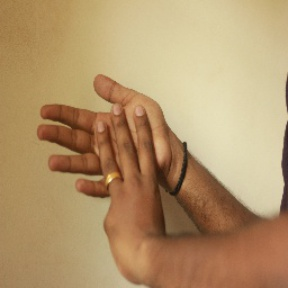M: (35, 71, 180, 230)
